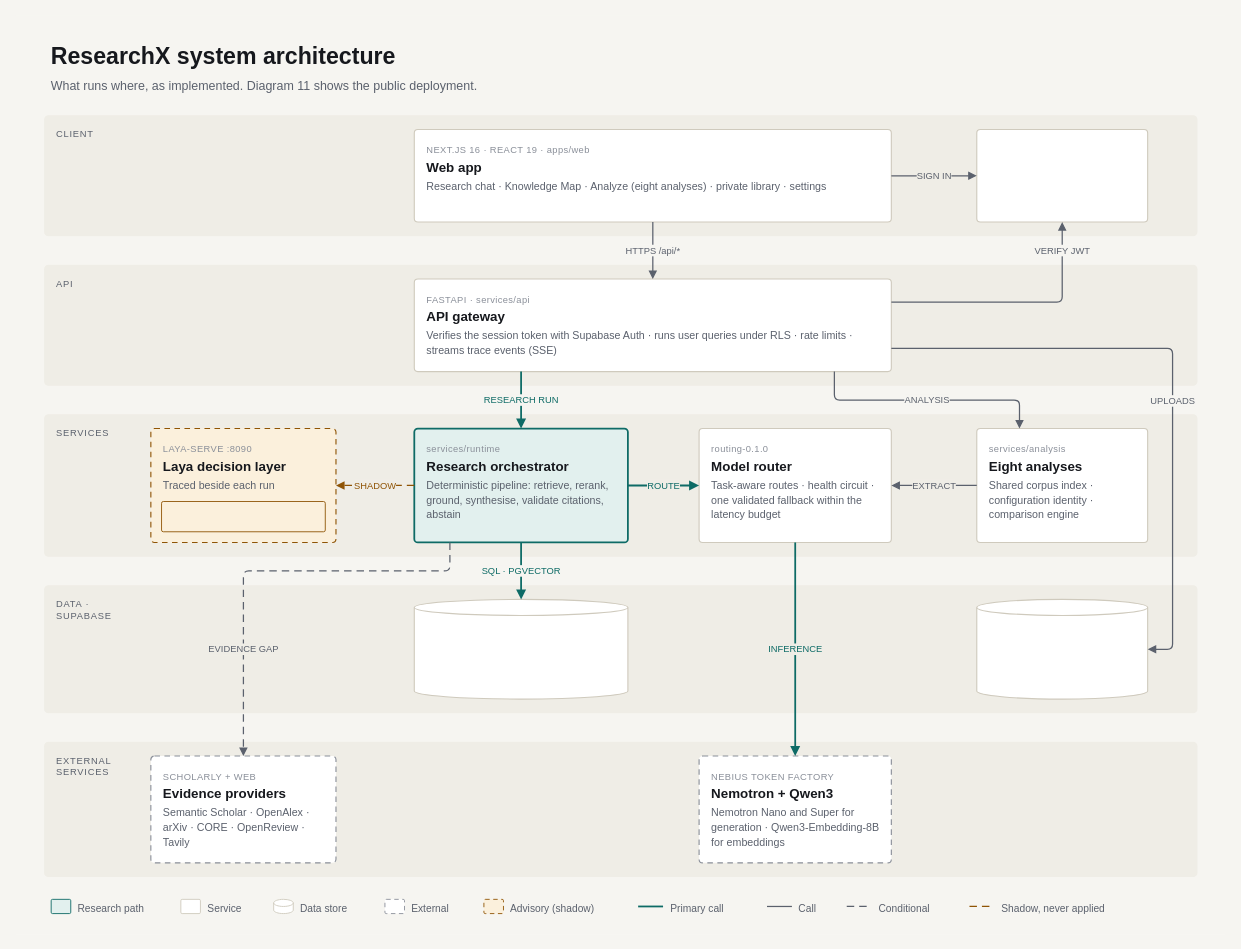
Some shapes in this 1241 by 949 pixel diagram are drawn without their labels. Here are the shapes that lost their labels. From the top down, the centre of each, then its label:
At point (1062, 175): "SUPABASE AUTH Authentication E-mail · Google · GitHub · TOTP MFA".
At point (243, 516): "SHADOW MODE advisory only, never applied".
At point (520, 648): "SUPABASE Postgres · schema rx Corpus · traces · caches · pgvector · RLS".
At point (1062, 648): "SUPABASE STORAGE Private library Bucket user-documents, one folder per user".
